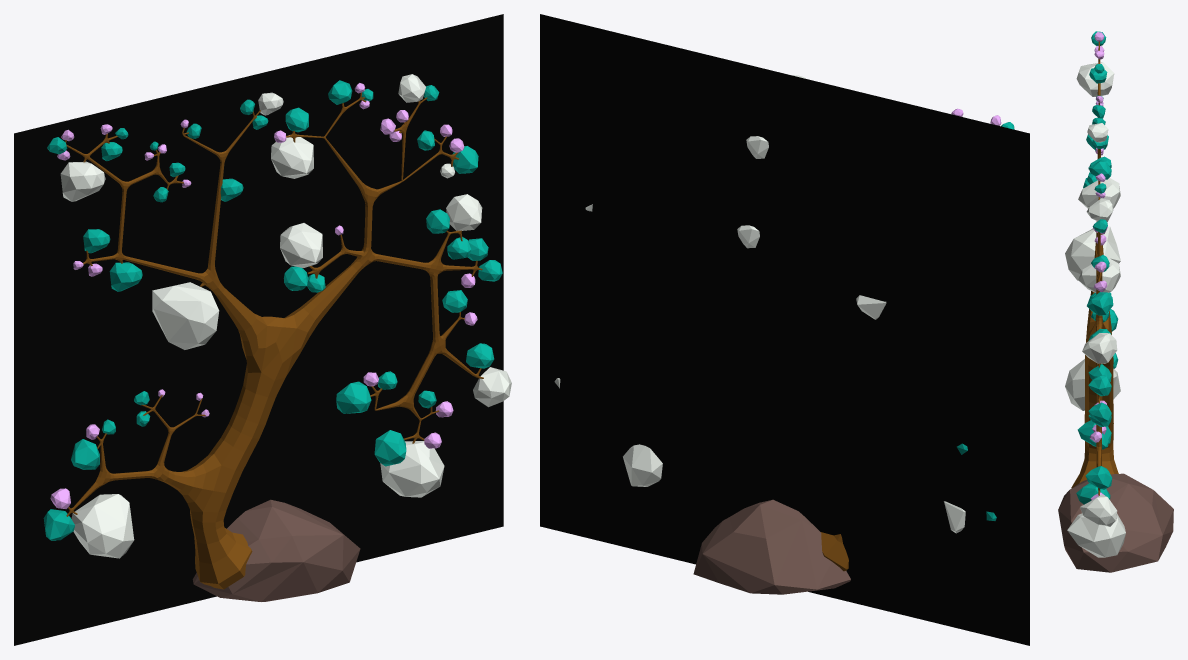
Rendered from TreeMap.fbx.
The picture shows the model from 3 angles, left to right: view 1: azimuth 30°, elevation 25°; view 2: azimuth 150°, elevation 25°; view 3: azimuth 270°, elevation 25°; orthographic projection. The views are drawn at different scales.
Parts seen in each view (by area): view 1: Plane, Cube, Icosphere, Icosphere.059, Icosphere.064, Icosphere.003, Icosphere.031, Icosphere.030, Icosphere.052, Icosphere.004, Icosphere.018, Icosphere.011 (+4 smaller); view 2: Plane, Icosphere, Icosphere.003, Cube; view 3: Icosphere, Cube, Icosphere.003, Icosphere.059, Icosphere.064, Icosphere.004, Icosphere.018, Icosphere.031, Icosphere.052, Icosphere.030, Icosphere.019, Icosphere.006 (+9 smaller).
Boxes of the visible parts, x1,y1,x2,y2 form: Plane: (14, 14, 503, 645); Cube: (65, 92, 483, 589); Icosphere: (192, 499, 360, 601); Icosphere.059: (152, 282, 219, 349); Icosphere.064: (71, 494, 134, 558); Icosphere.003: (380, 441, 444, 497); Icosphere.031: (280, 223, 322, 267); Icosphere.030: (271, 135, 313, 178); Icosphere.052: (60, 161, 105, 201); Icosphere.004: (473, 367, 511, 407); Icosphere.018: (446, 194, 482, 230); Icosphere.011: (374, 430, 406, 466); Plane: (540, 14, 1029, 645); Icosphere: (693, 499, 850, 594); Icosphere.003: (623, 444, 662, 486); Cube: (820, 532, 848, 571); Icosphere: (1058, 473, 1173, 572); Cube: (1071, 41, 1118, 495); Icosphere.003: (1067, 513, 1125, 557); Icosphere.059: (1065, 226, 1120, 280); Icosphere.064: (1065, 359, 1120, 410); Icosphere.004: (1080, 494, 1117, 526); Icosphere.018: (1082, 333, 1117, 363); Icosphere.031: (1078, 257, 1120, 292); Icosphere.052: (1076, 62, 1114, 96); Icosphere.030: (1078, 178, 1120, 208); Icosphere.019: (1087, 292, 1113, 315); Icosphere.006: (1085, 466, 1112, 489).
Size of the model in its own units: 7500 by 7511 by 1826.
